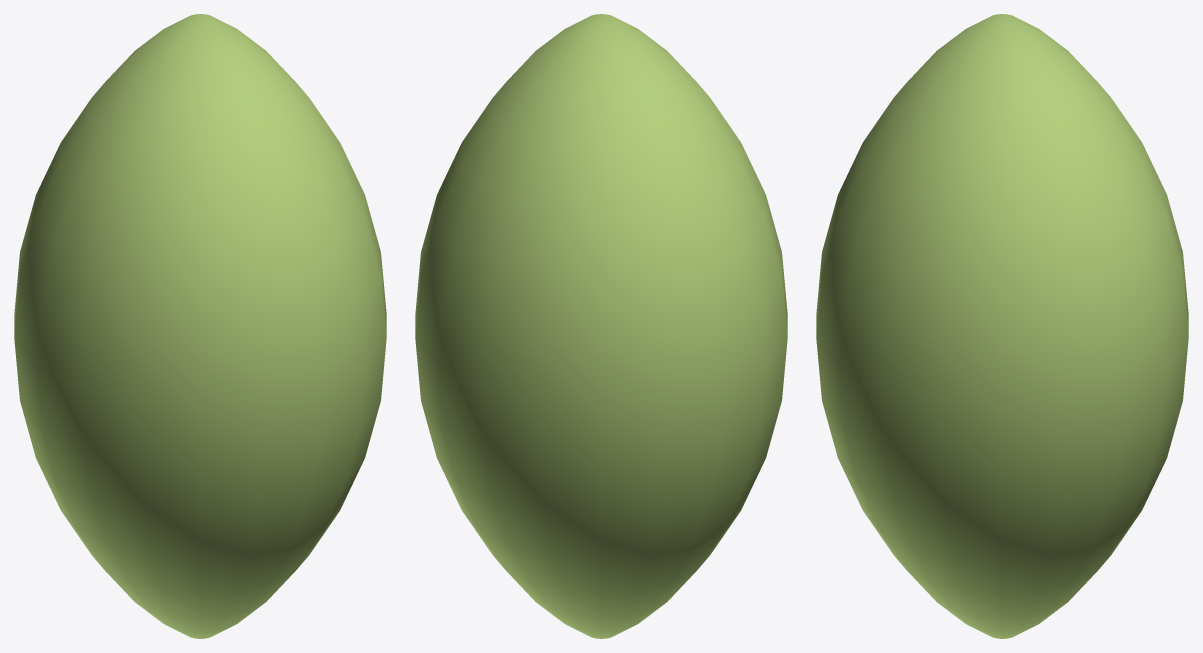
The model's file is olive.glb.
3 views of the same model, side by side, from view 1: azimuth 30°, elevation 25°; view 2: azimuth 150°, elevation 25°; view 3: azimuth 270°, elevation 25° (orthographic).
Bounding box in the file's own units: 0.68 × 1.24 × 0.6697.
